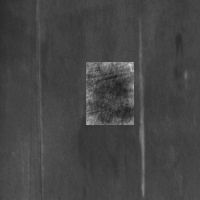patches: (86, 62, 134, 125)
scratches: (32, 1, 47, 177), (135, 29, 148, 196)
